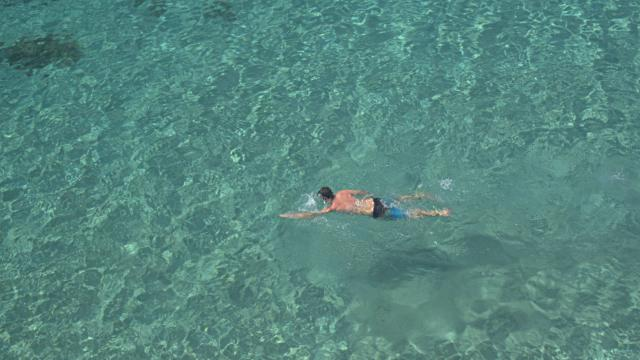swimmer: (278, 185, 452, 226)
